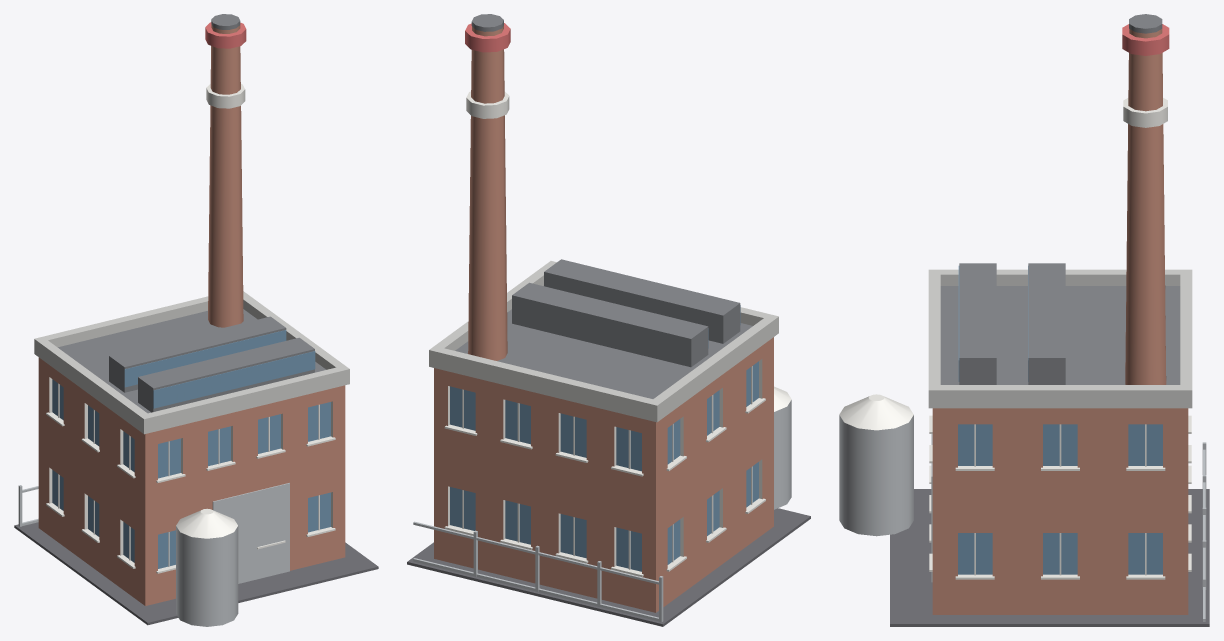
3 views of the same model, side by side, from view 1: azimuth 30°, elevation 25°; view 2: azimuth 150°, elevation 25°; view 3: azimuth 270°, elevation 25° (orthographic). The views are drawn at different scales.
Parts seen in each view (by area): view 1: i_3_1_a; view 2: i_3_1_a; view 3: i_3_1_a.
Boxes of the visible parts, <box> form: i_3_1_a: <box>14,14,378,626</box>; i_3_1_a: <box>407,14,810,626</box>; i_3_1_a: <box>839,14,1209,626</box>.
Bounding box in the file's own units: 12 × 23.95 × 13.9.
